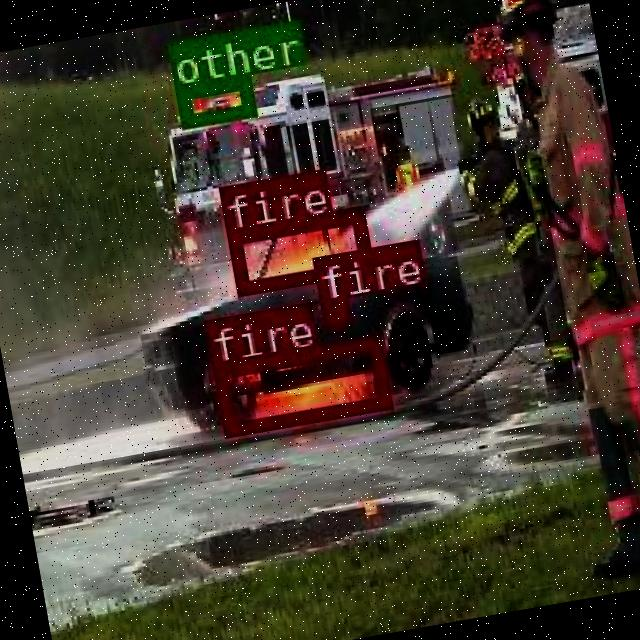fire: (209, 335, 388, 433), (225, 206, 370, 295), (317, 297, 348, 324)
